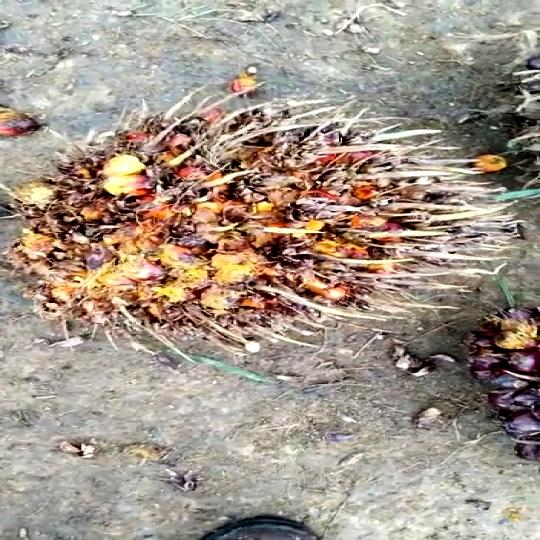terlalu masak: (0, 90, 540, 355)
